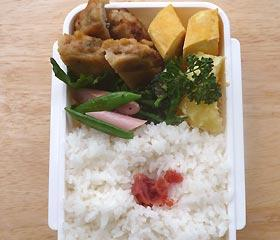rice: (65, 122, 229, 239)
